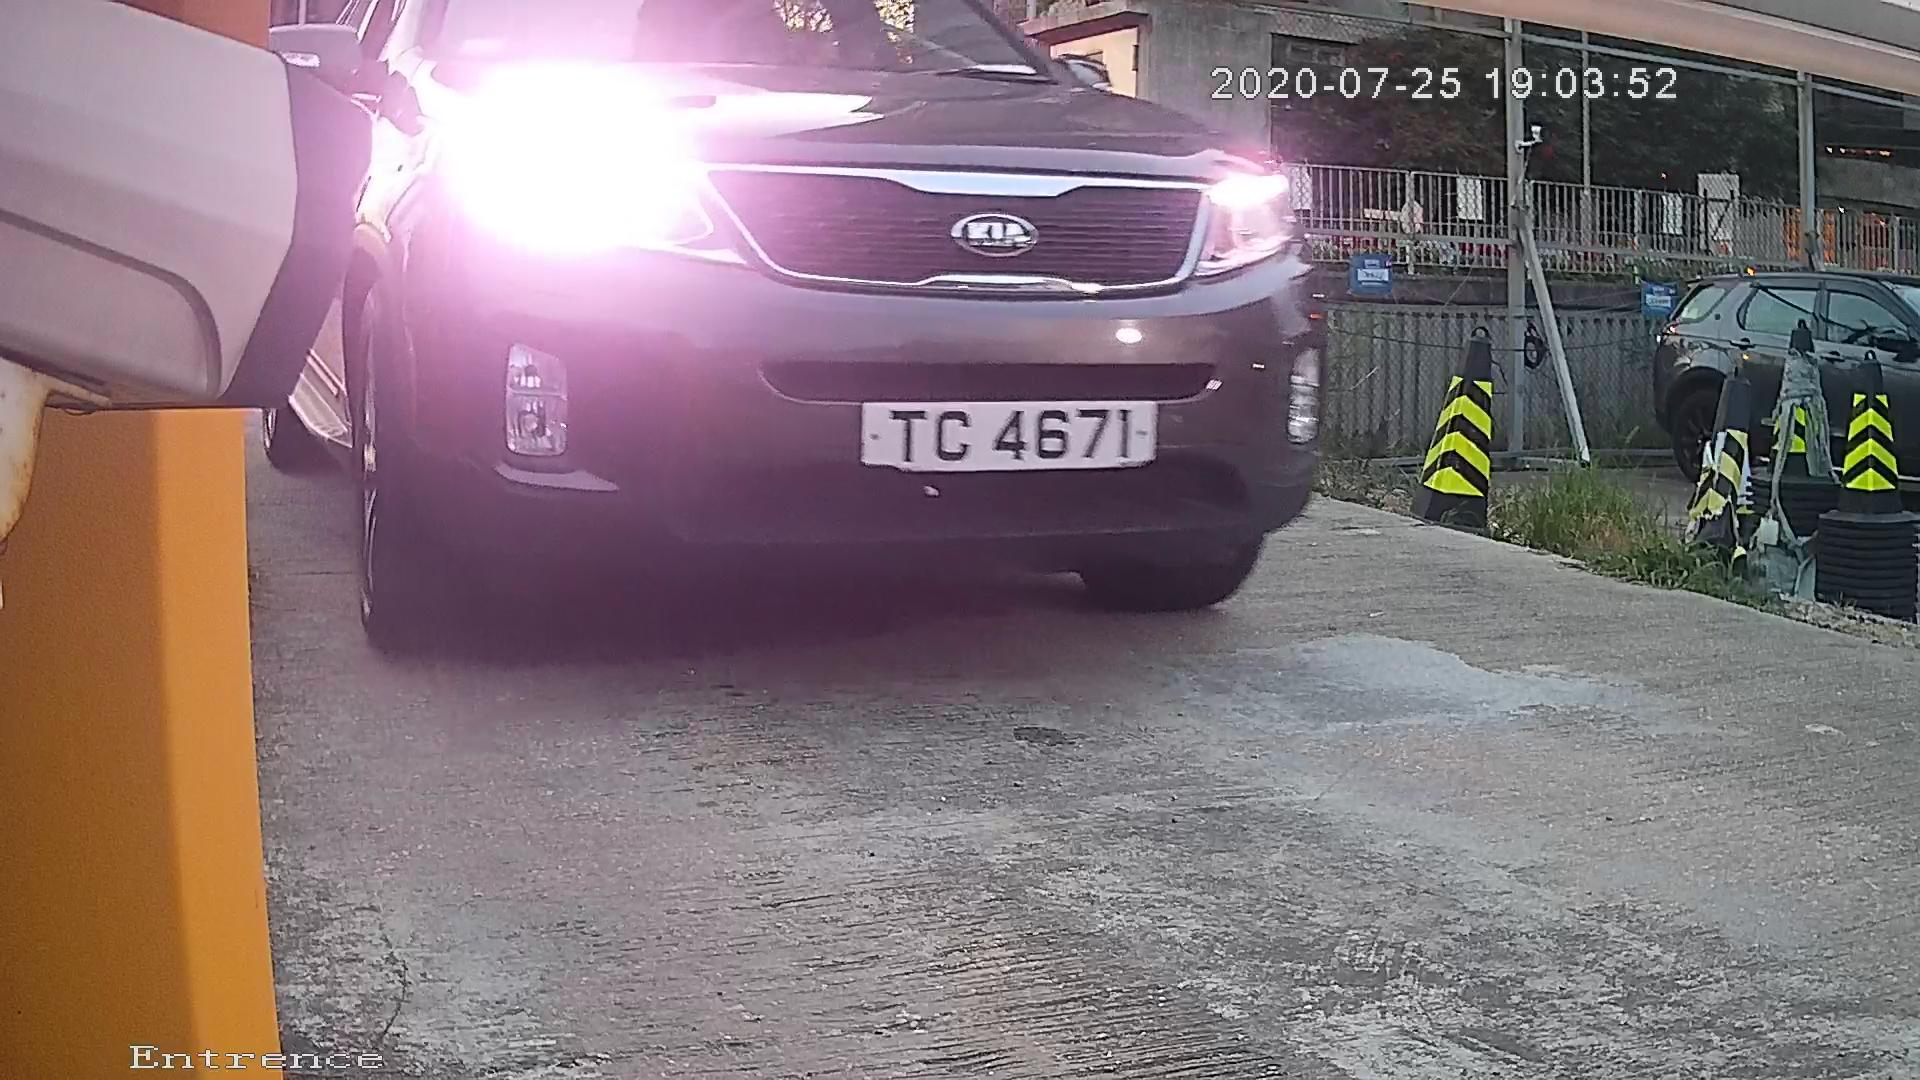License Plate: (823, 386, 1183, 478)
